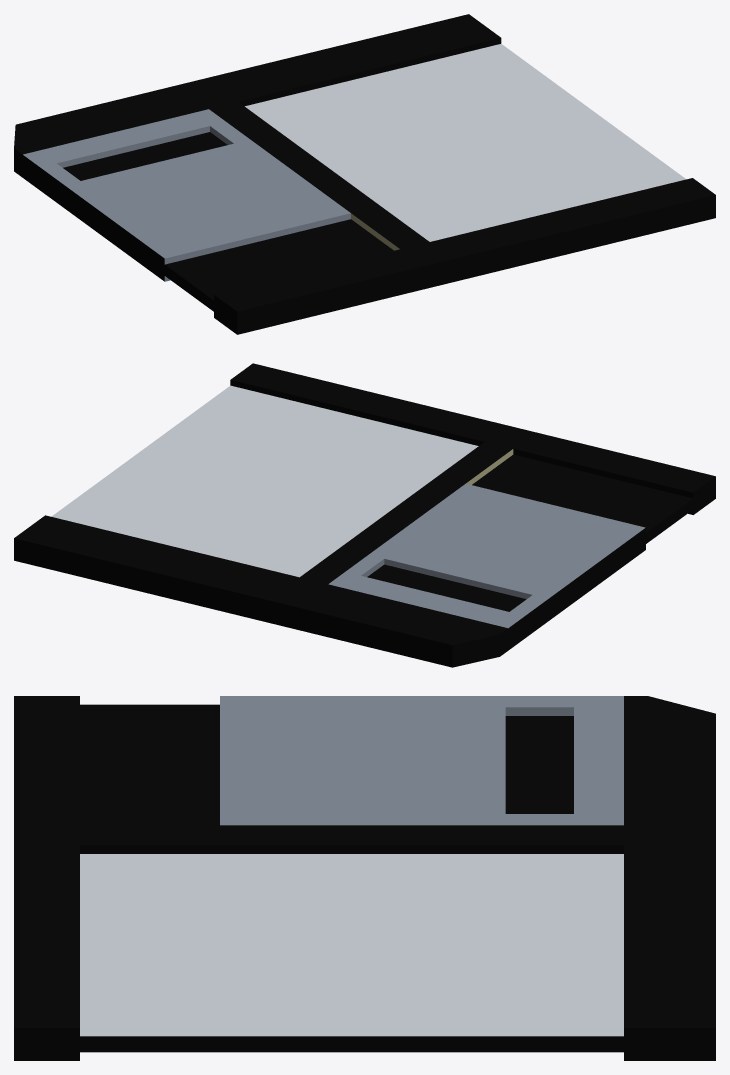
The model's file is Floppy_disk.fbx.
3 renders of one model, top to bottom at view 1: azimuth 30°, elevation 25°; view 2: azimuth 150°, elevation 25°; view 3: azimuth 270°, elevation 25°, orthographic. The views are drawn at different scales.
Parts seen in each view (by area): view 1: Plane.004; view 2: Plane.004; view 3: Plane.004.
Part boxes in pixels (box(x1,y1,x2,y2)): Plane.004: box(14, 14, 715, 334); Plane.004: box(14, 363, 715, 667); Plane.004: box(14, 696, 715, 1060).
Size of the model in its own units: 0.294 by 0.2628 by 0.0136.
